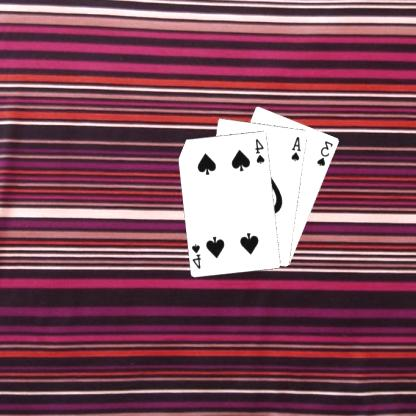3S: (316, 138, 336, 167)
4S: (254, 136, 268, 165), (191, 241, 204, 270)
AS: (290, 134, 304, 162)
